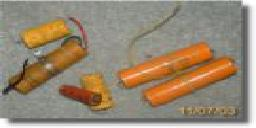Electrolytic-Capacitor: (14, 11, 74, 45)
